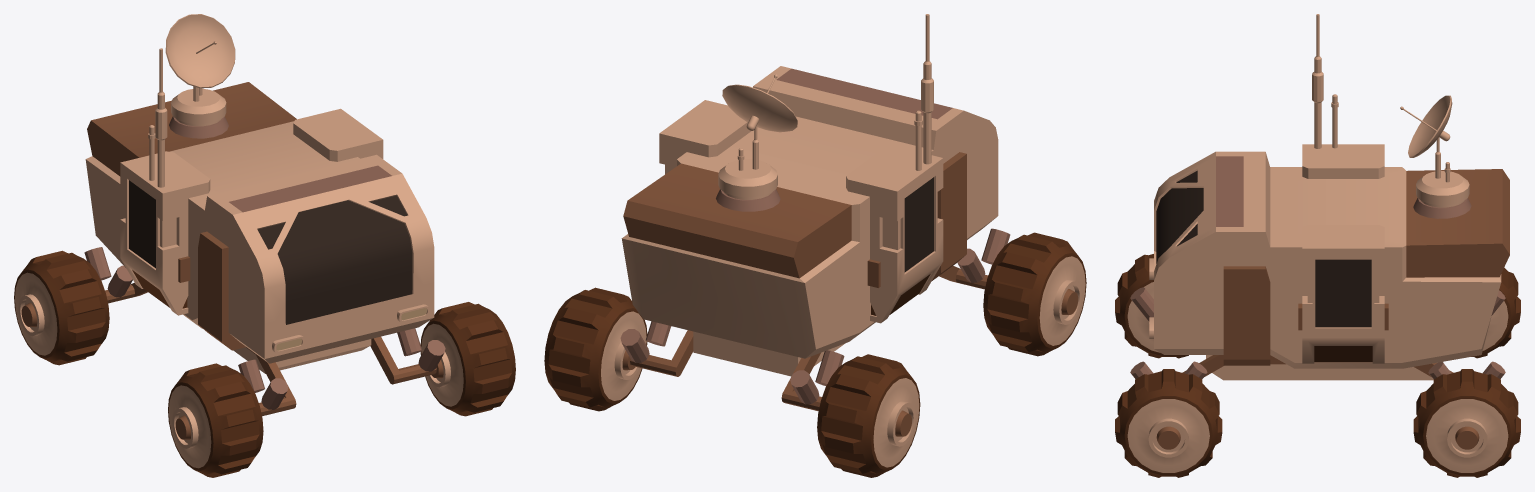
Rendered from quaternius-ultimate-space-rover-1.glb.
The picture shows the model from 3 angles, left to right: view 1: azimuth 30°, elevation 25°; view 2: azimuth 150°, elevation 25°; view 3: azimuth 270°, elevation 25°; orthographic projection. The views are drawn at different scales.
Parts seen in each view (by area): view 1: Wheel_1; view 2: Wheel_1; view 3: Wheel_1.
Boxes of the visible parts, box(x1,y1,x2,y2) form: Wheel_1: box(14, 14, 515, 477); Wheel_1: box(544, 14, 1086, 477); Wheel_1: box(1115, 14, 1520, 477).
Size of the model in its own units: 4.58 by 4.88 by 5.16.
Materials: 1 (1 with a texture image).
